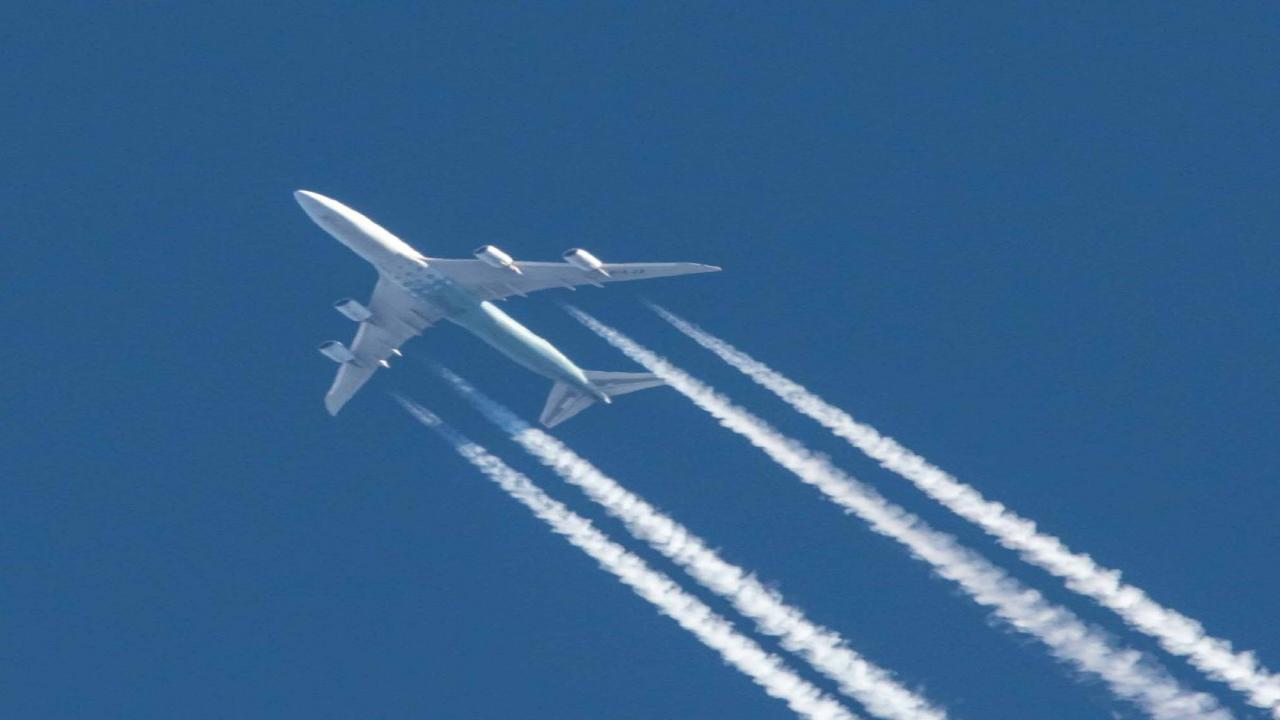Airplane: (258, 172, 747, 447)
